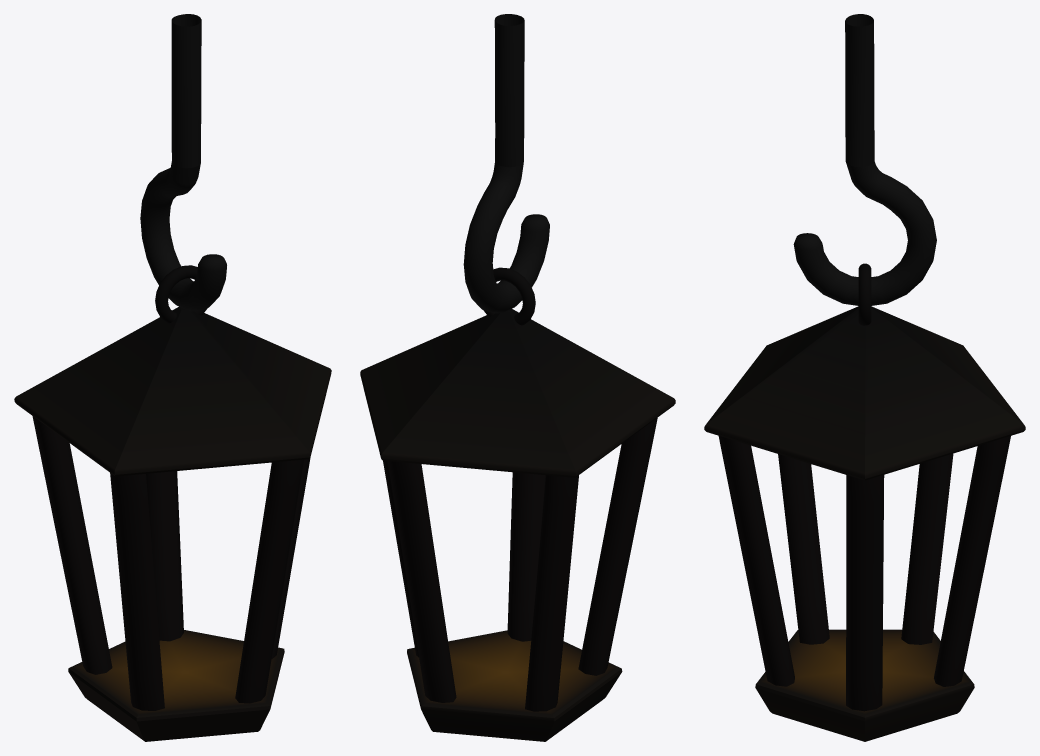
File: Lantern.fbx
3 views of the same model, side by side, from view 1: azimuth 30°, elevation 25°; view 2: azimuth 150°, elevation 25°; view 3: azimuth 270°, elevation 25° (orthographic).
Visible parts, largest first — view 1: pCube6; view 2: pCube6; view 3: pCube6.
Boxes of the visible parts, x1,y1,x2,y2 form: pCube6: [14, 14, 331, 741]; pCube6: [360, 14, 675, 741]; pCube6: [704, 14, 1025, 741].
Bounding box in the file's own units: 1.68 × 4.14 × 1.77.
